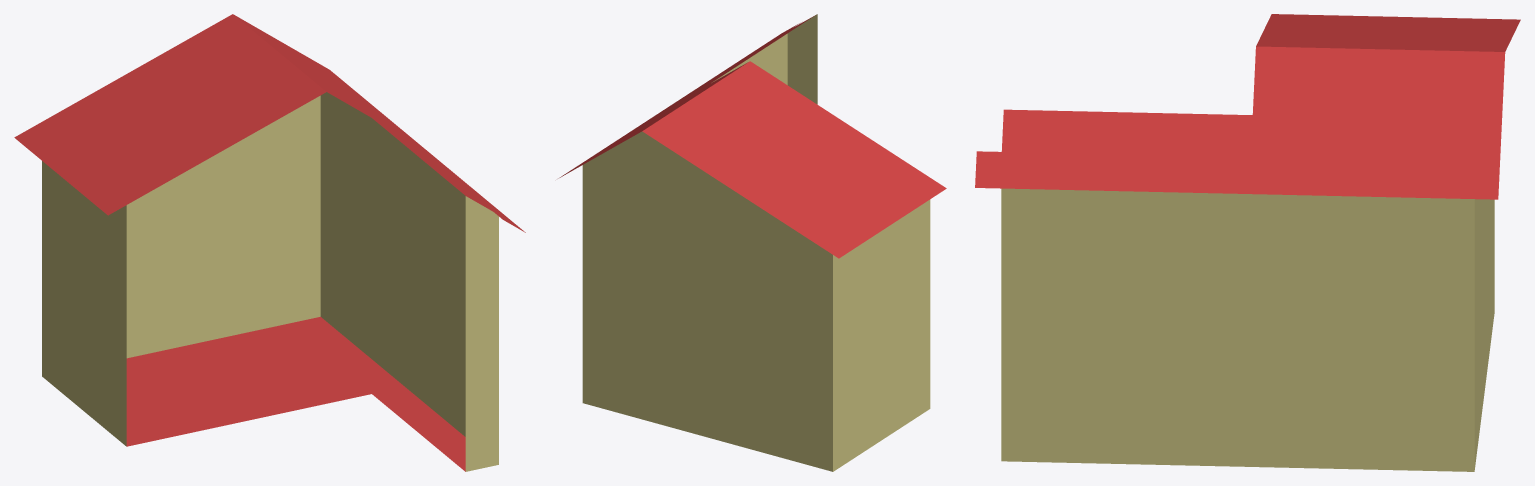
The picture shows the model from 3 angles, left to right: view 1: azimuth 30°, elevation 25°; view 2: azimuth 150°, elevation 25°; view 3: azimuth 270°, elevation 25°; orthographic projection. The views are drawn at different scales.
Bounding box in the file's own units: 8.76 × 10.89 × 8.27.
